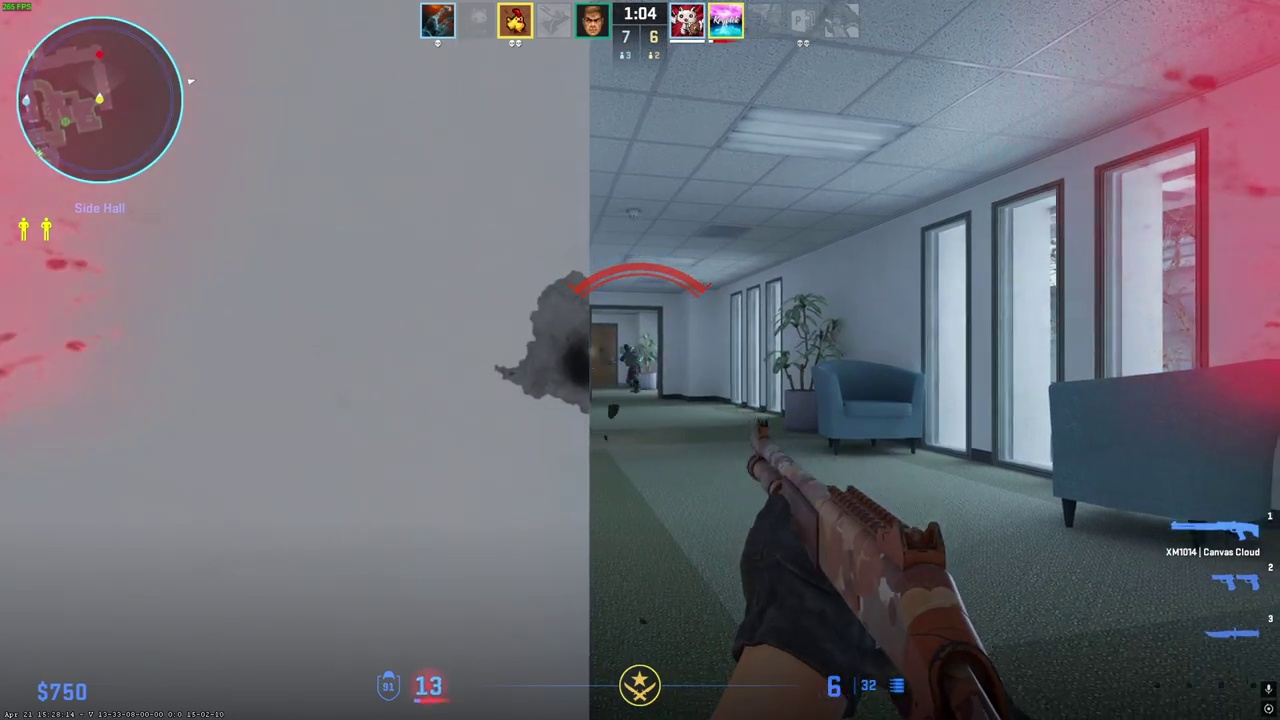CT: (621, 343, 641, 393)
